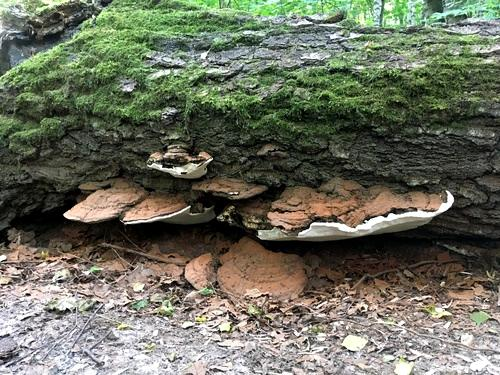Ganoderma - Fruit Body: (236, 172, 455, 244), (185, 238, 314, 298), (63, 183, 212, 226), (145, 148, 210, 181)
